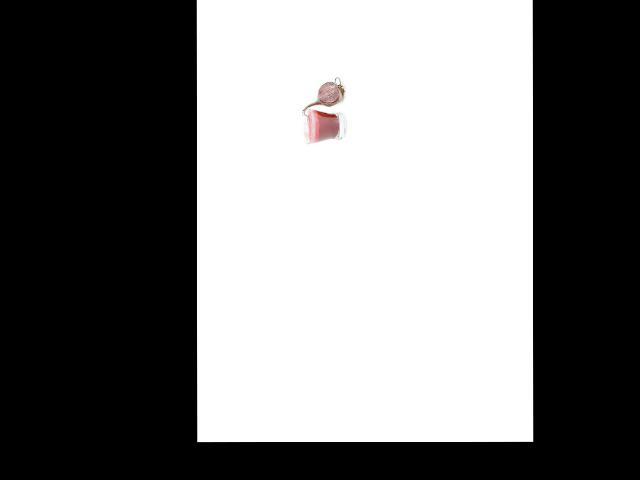beet: (301, 77, 345, 121)
